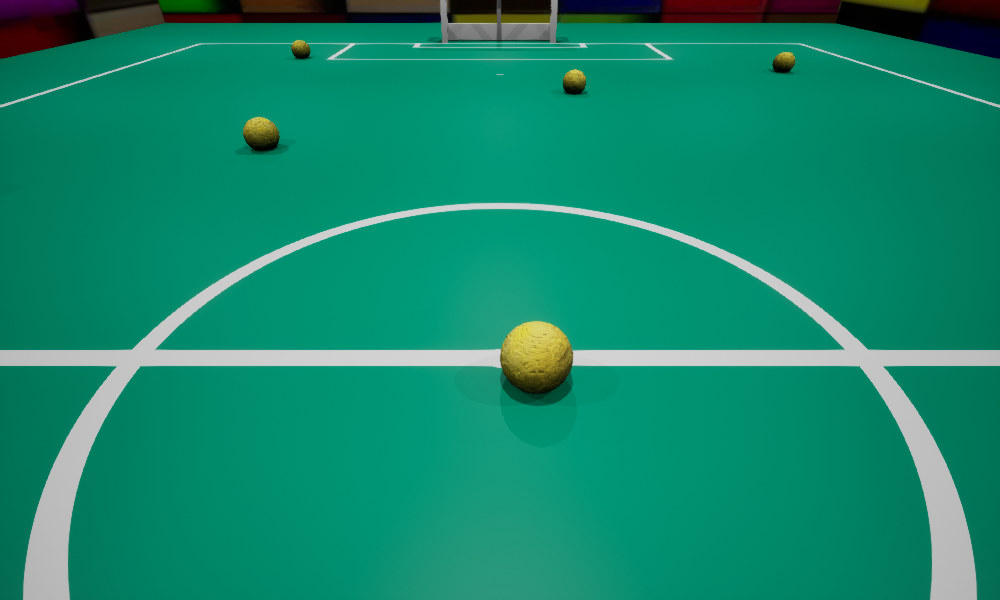b: (500, 321, 572, 393), (243, 117, 279, 150), (563, 69, 585, 93), (772, 52, 795, 72), (291, 40, 310, 58)
g: (440, 0, 557, 42)
